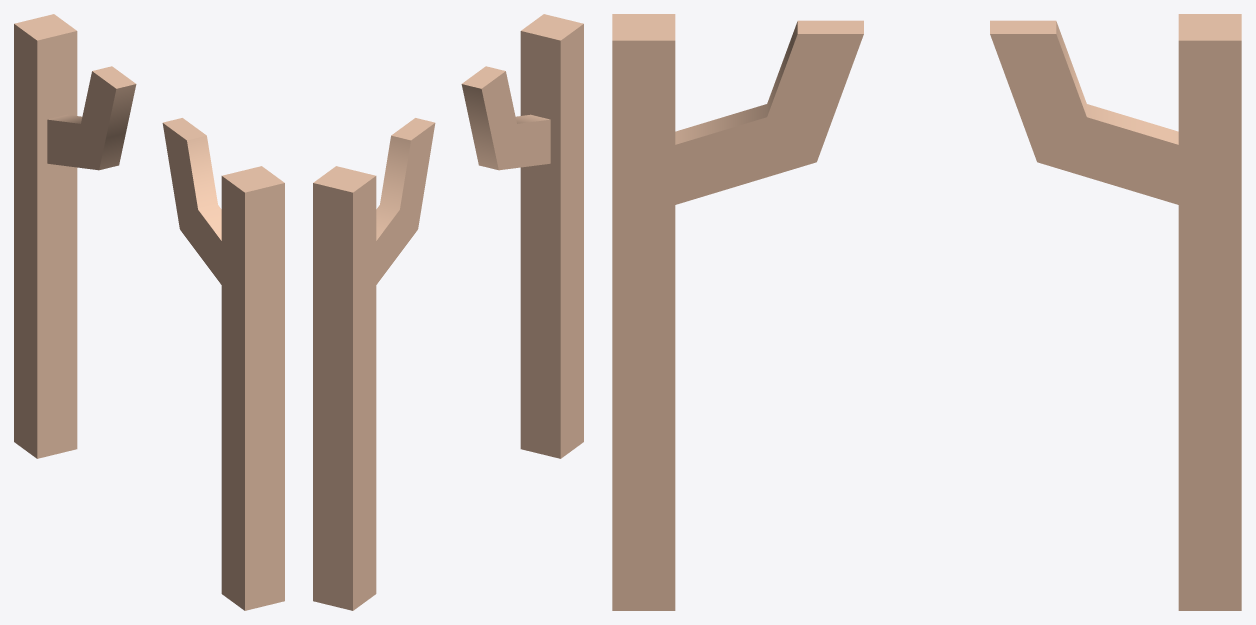
The picture shows the model from 3 angles, left to right: view 1: azimuth 30°, elevation 25°; view 2: azimuth 150°, elevation 25°; view 3: azimuth 270°, elevation 25°; orthographic projection. The views are drawn at different scales.
Parts seen in each view (by area): view 1: balconyWall; view 2: balconyWall; view 3: balconyWall.
Part boxes in pixels (x1,y1,x2,y2): balconyWall: (14,14,284,610); balconyWall: (313,14,583,610); balconyWall: (612,14,1241,610).
Size of the model in its own units: 0.1 by 1 by 1.
